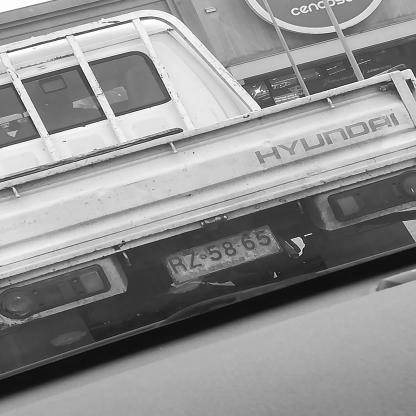Patente: (161, 225, 285, 285)
